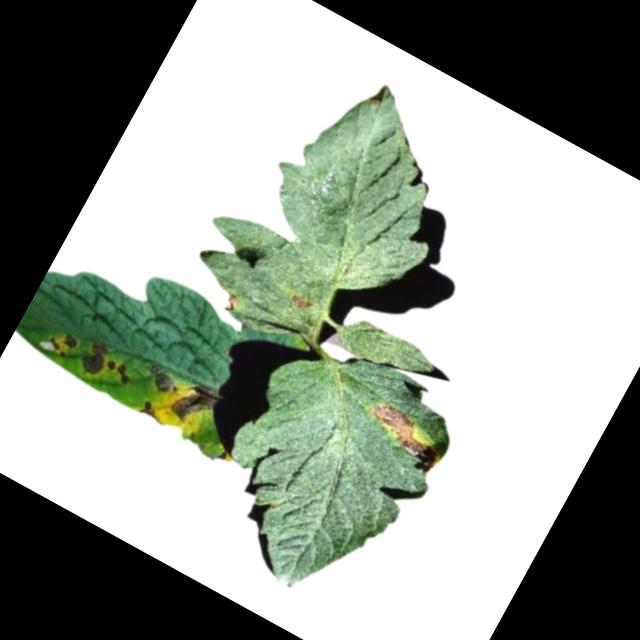Early_blight: (345, 393, 452, 480), (167, 375, 224, 432), (72, 338, 112, 383), (38, 325, 80, 367), (100, 356, 135, 390), (143, 363, 178, 396), (133, 395, 168, 427), (281, 287, 311, 313), (218, 290, 240, 315)
